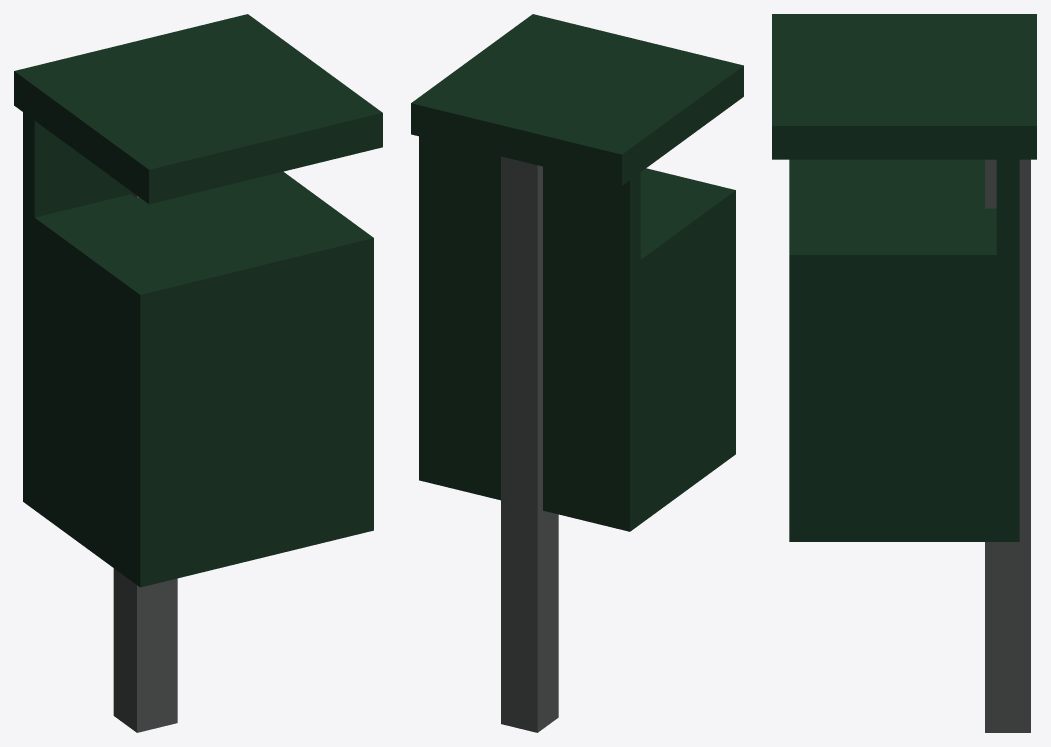
The model's file is rasteplass_bin.glb.
The picture shows the model from 3 angles, left to right: view 1: azimuth 30°, elevation 25°; view 2: azimuth 150°, elevation 25°; view 3: azimuth 270°, elevation 25°; orthographic projection. The views are drawn at different scales.
Visible parts, largest first — view 1: bin; view 2: bin; view 3: bin.
Boxes of the visible parts, x1,y1,x2,y2 form: bin: [14, 14, 382, 732]; bin: [411, 14, 743, 732]; bin: [772, 14, 1036, 732].
Size of the model in its own units: 0.46 by 1.25 by 0.46.
